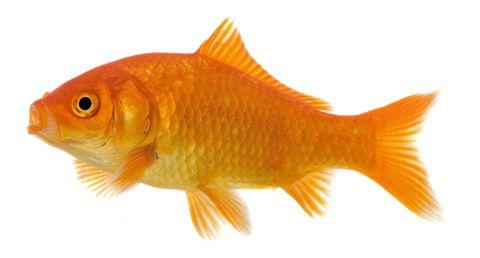Gold Fish: (28, 19, 443, 237)
